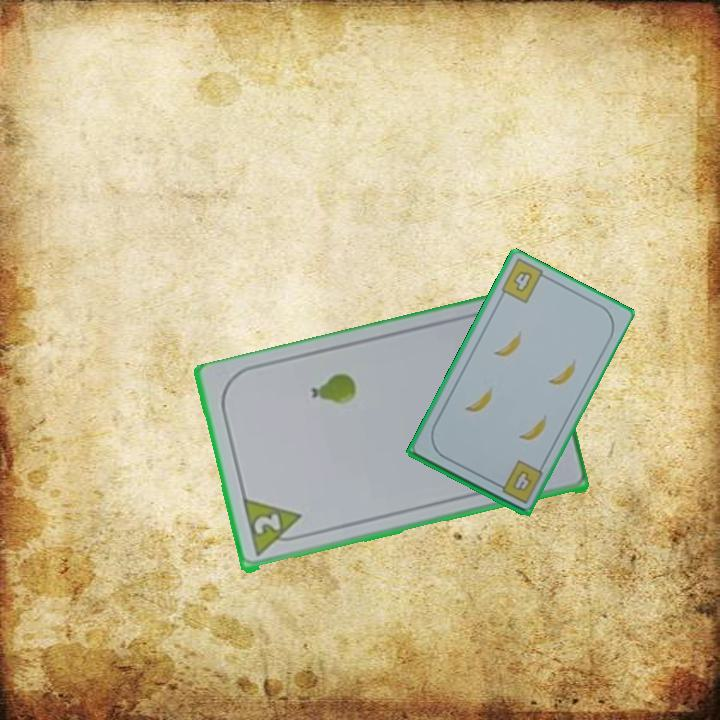2p: (250, 510, 283, 538)
4b: (491, 457, 546, 506), (509, 267, 535, 295)
